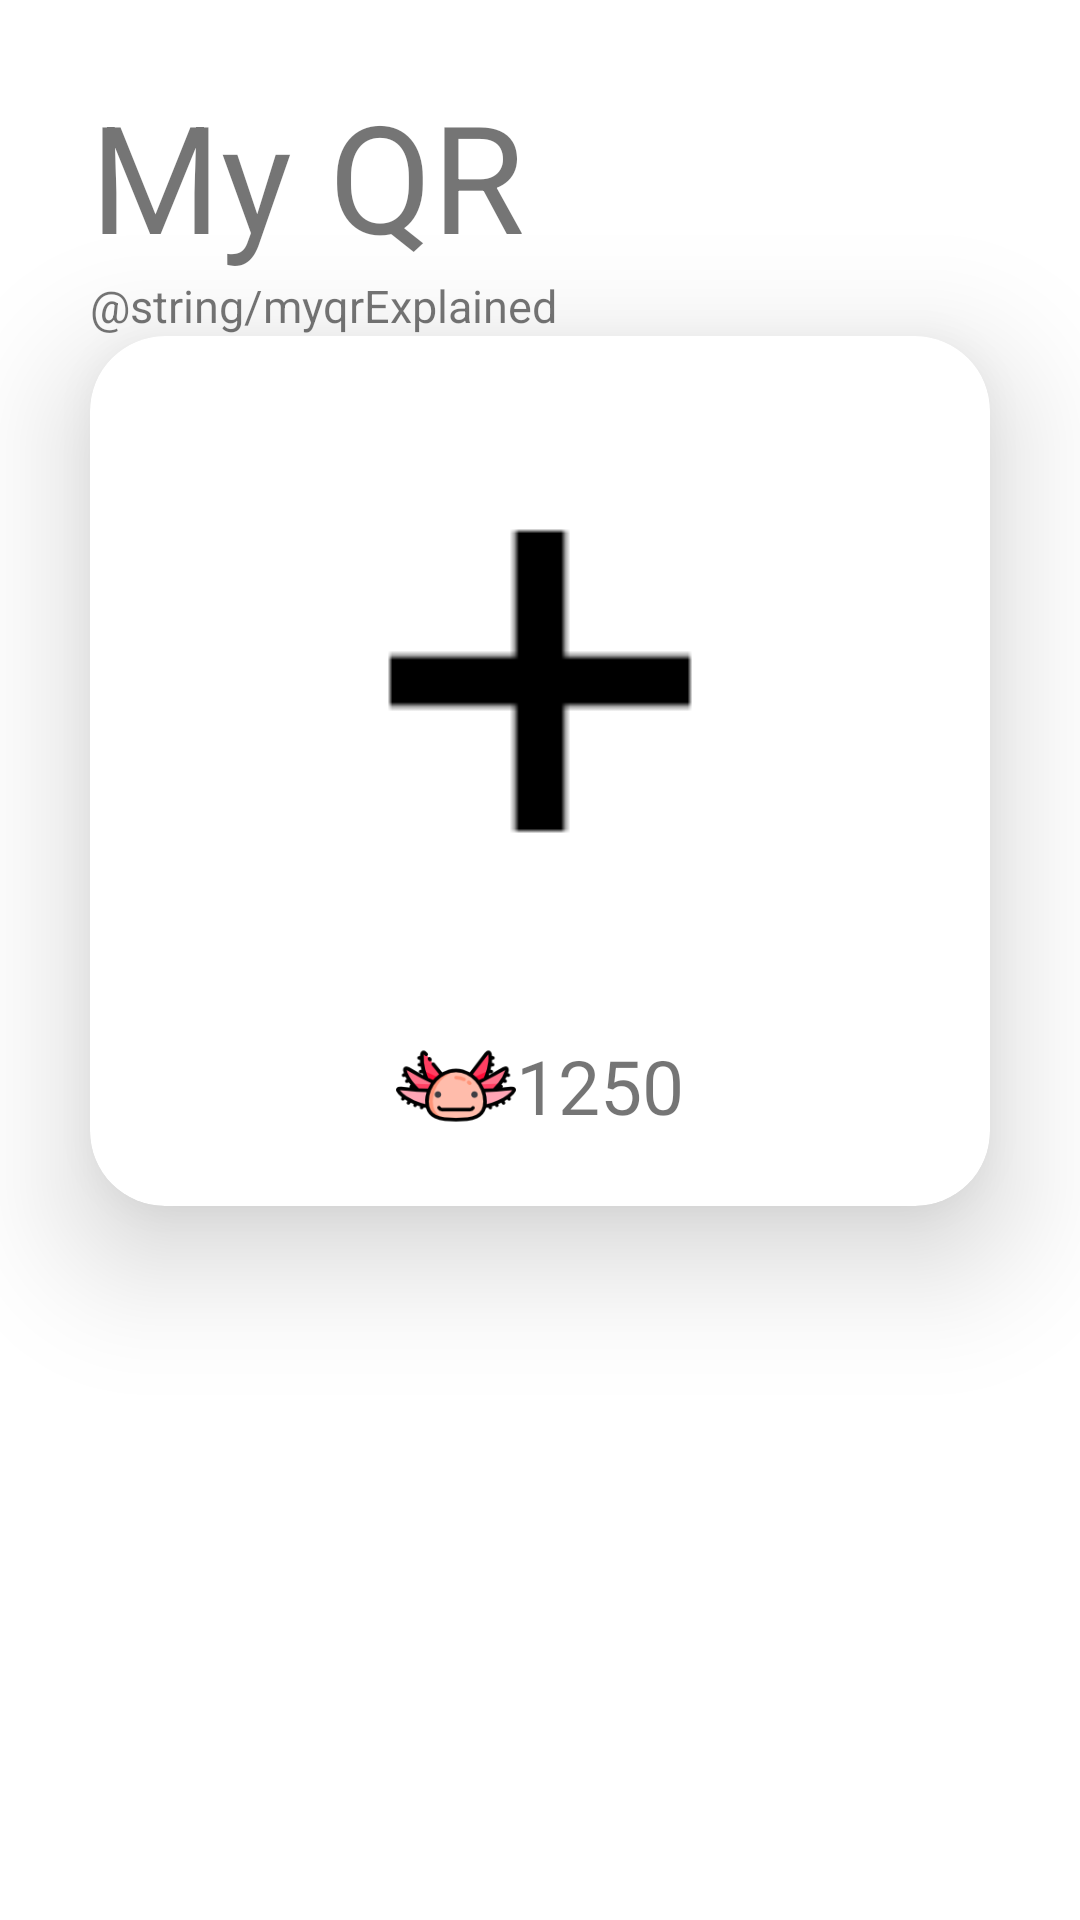

Where icons sit on this 1080 x 1920 app screen, as box=[x1, y1, x2, y2]:
axolot: box=[396, 1050, 516, 1122]
plus: box=[388, 529, 692, 833]
